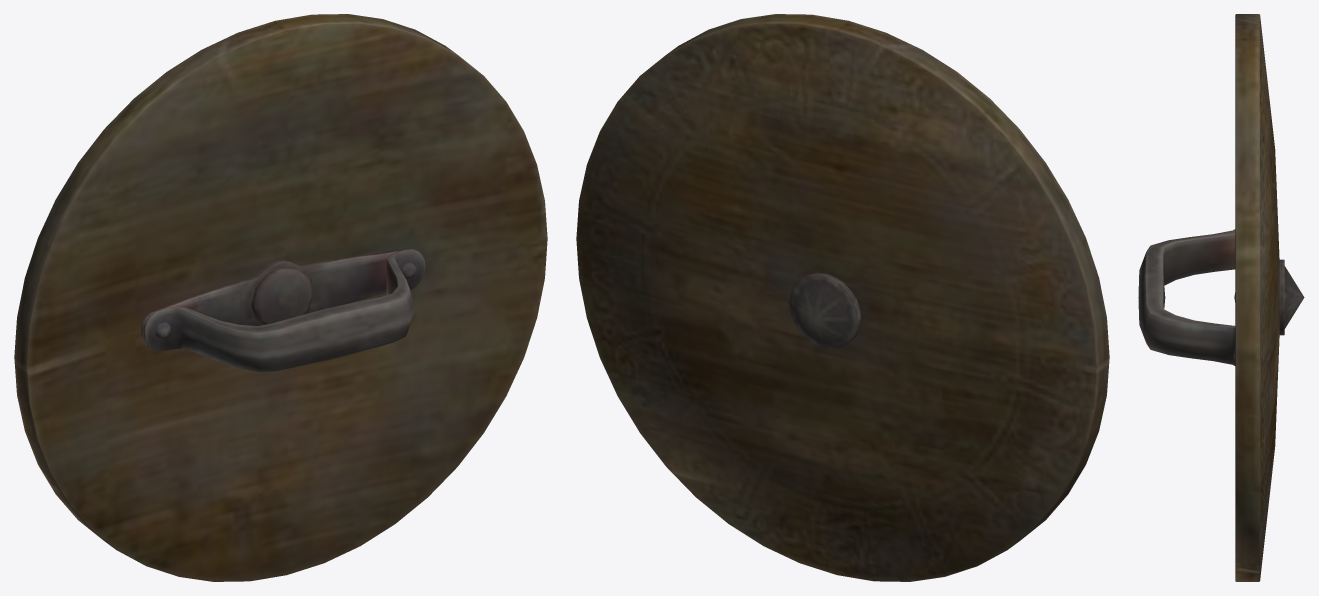
Rendered from weapon-wp_a_2109.glb.
3 renders of one model, left to right at view 1: azimuth 30°, elevation 25°; view 2: azimuth 150°, elevation 25°; view 3: azimuth 270°, elevation 25°, orthographic. The views are drawn at different scales.
Parts seen in each view (by area): view 1: wp_a_2109_mesh; view 2: wp_a_2109_mesh; view 3: wp_a_2109_mesh.
Part boxes in pixels (box(x1,y1,x2,y2)): wp_a_2109_mesh: box(14, 14, 547, 581); wp_a_2109_mesh: box(576, 14, 1109, 581); wp_a_2109_mesh: box(1138, 14, 1304, 581).
Bounding box in the file's own units: 0.4001 × 0.4001 × 0.1169.
Materials: 2 (2 with a texture image).
